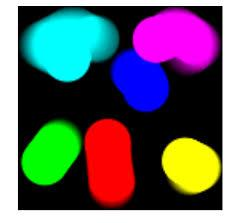cell: (24, 8, 119, 83), (134, 9, 221, 73), (84, 120, 136, 207), (110, 49, 171, 112), (22, 123, 82, 184), (161, 138, 222, 193)
